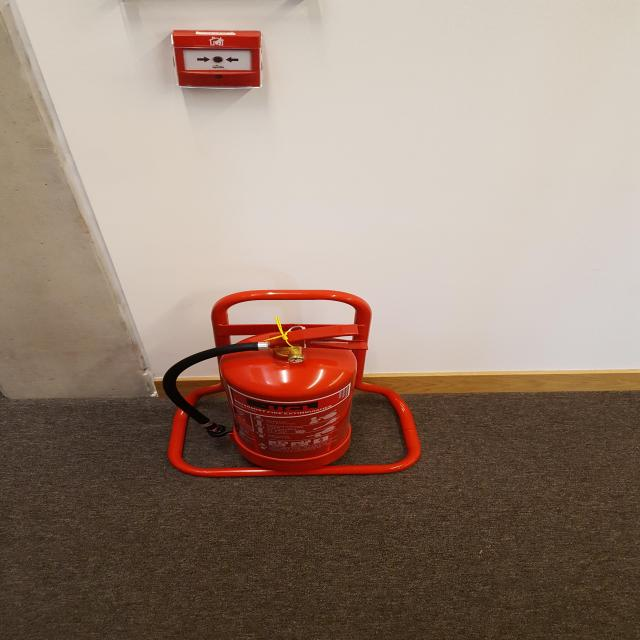fire_extinguisher: (159, 319, 373, 476)
